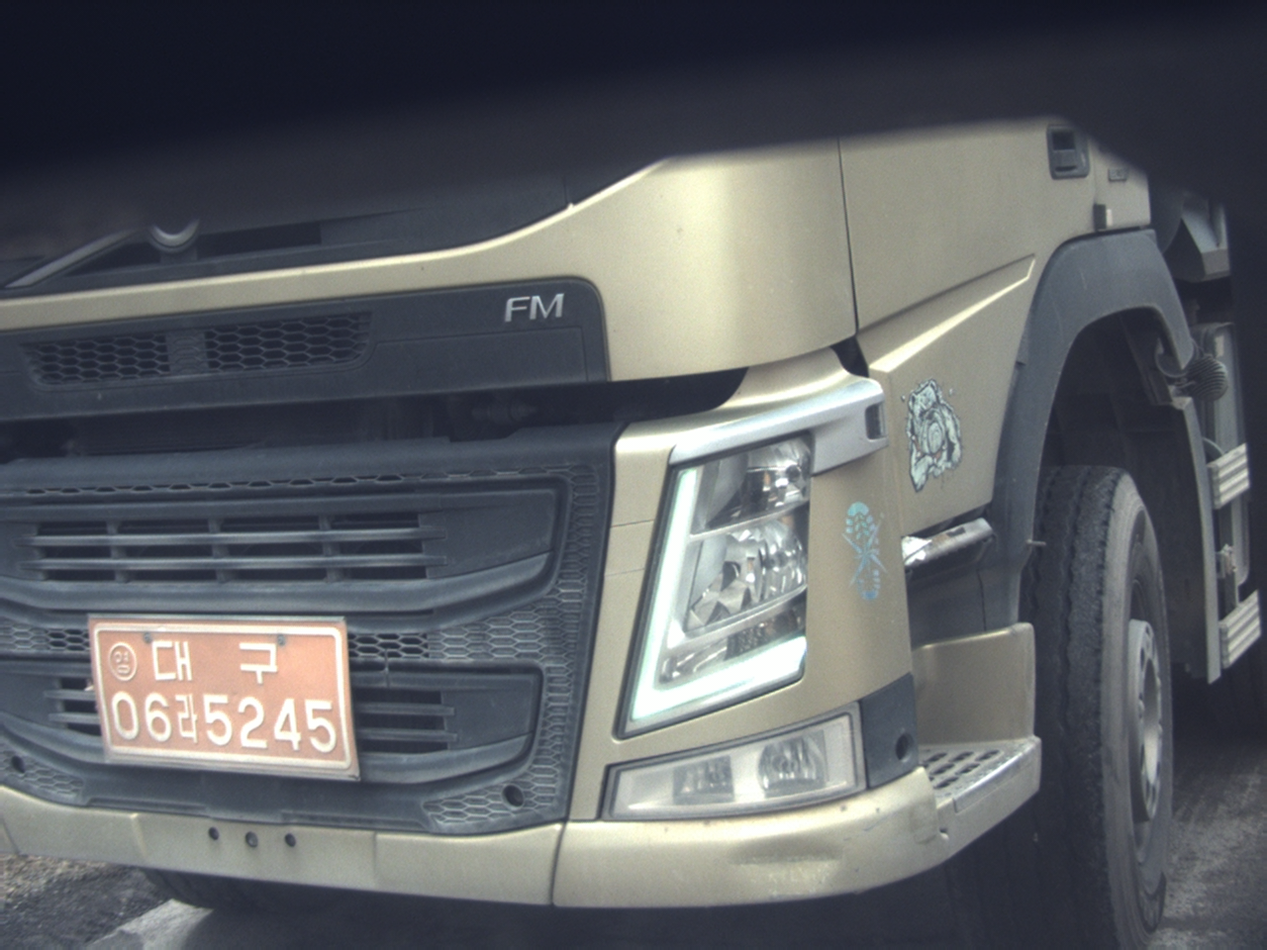license_plate: (89, 616, 359, 779)
truck: (0, 119, 1265, 944)
